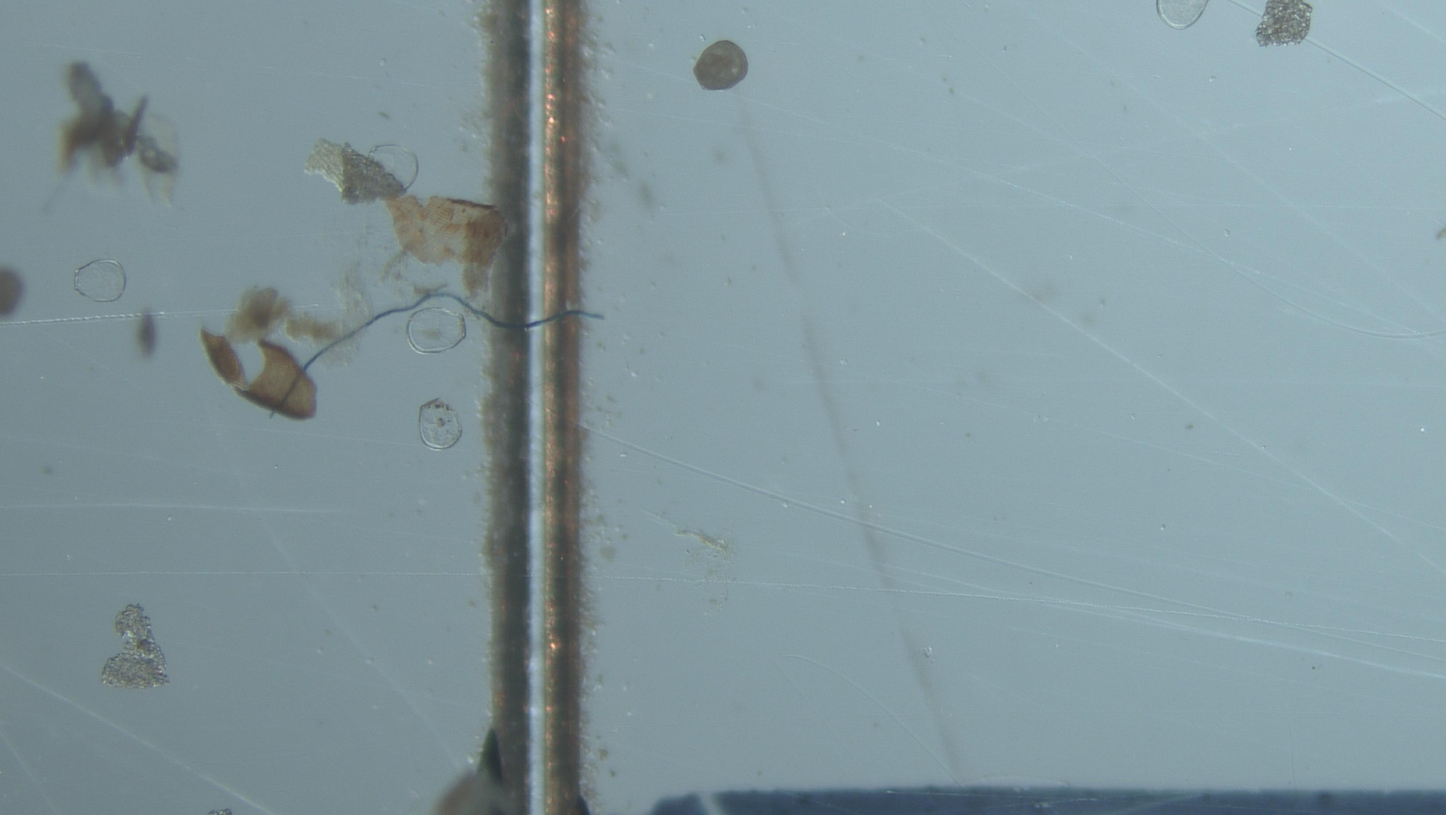dead: (408, 308, 466, 353), (368, 144, 419, 194), (419, 399, 462, 450), (74, 260, 126, 302), (1157, 0, 1209, 29)
live: (694, 41, 748, 90)
